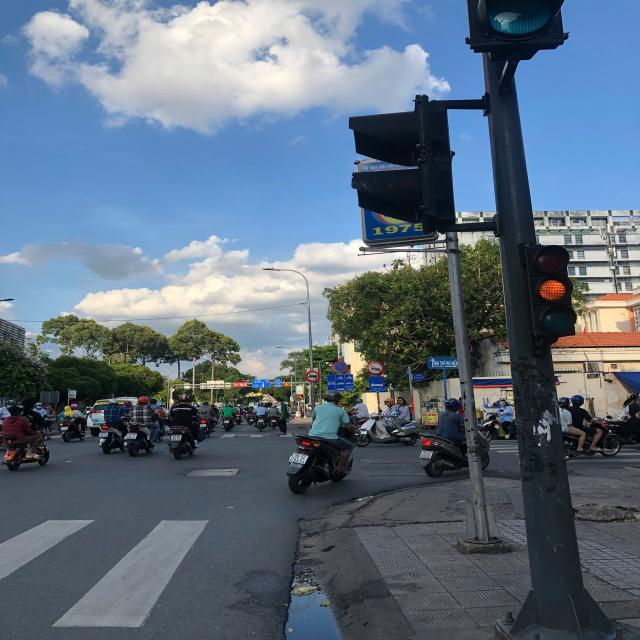Bien bao cam do xe: (331, 360, 349, 374)
Bien bao cam xe so-mi ro-mooc: (304, 369, 321, 383)
